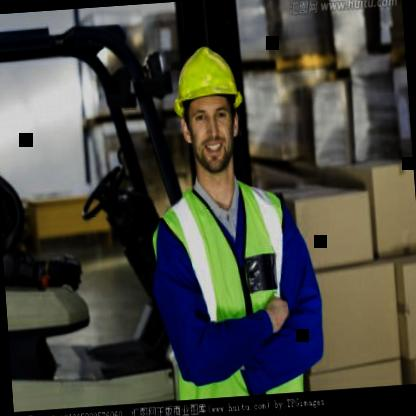helmet: (167, 31, 254, 184)
